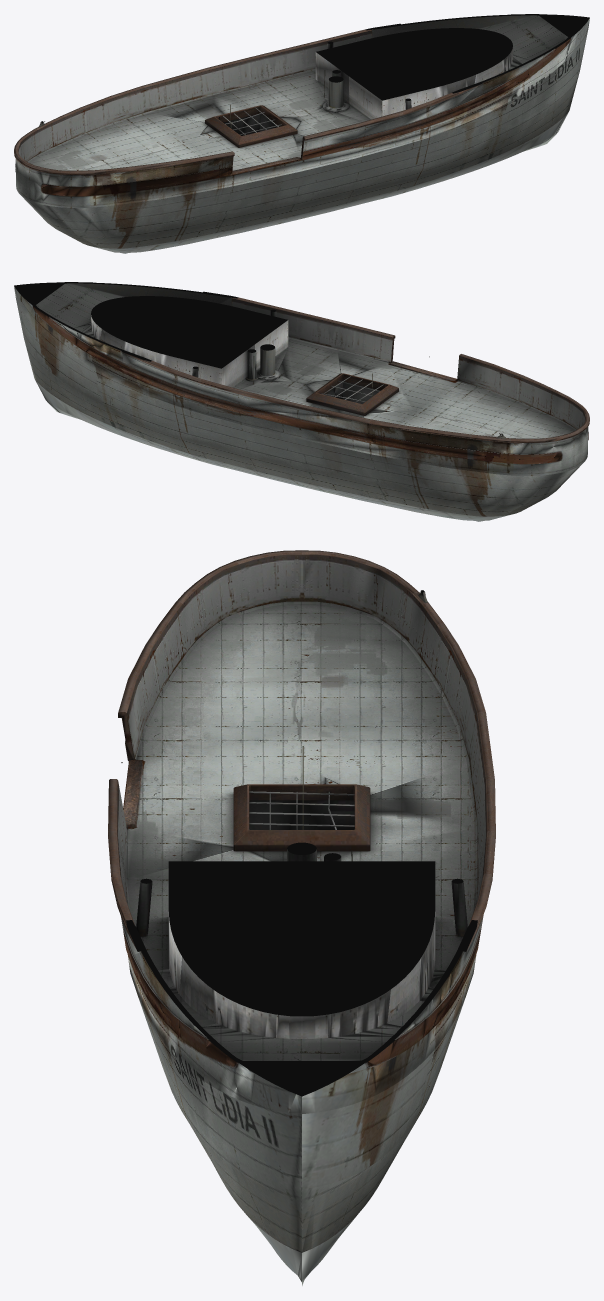
Rendered from boat_fishing_only_hull.obj.
The picture shows the model from 3 angles, top to bottom: view 1: azimuth 30°, elevation 25°; view 2: azimuth 150°, elevation 25°; view 3: azimuth 270°, elevation 25°; orthographic projection. The views are drawn at different scales.
Parts seen in each view (by area): view 1: (null); view 2: (null); view 3: (null).
Boxes of the visible parts, x1=… form: (null): x1=14, y1=14, x2=589, y2=253; (null): x1=14, y1=282, x2=589, y2=521; (null): x1=108, y1=550, x2=495, y2=1285.
Size of the model in its own units: 1061 by 219 by 313.
